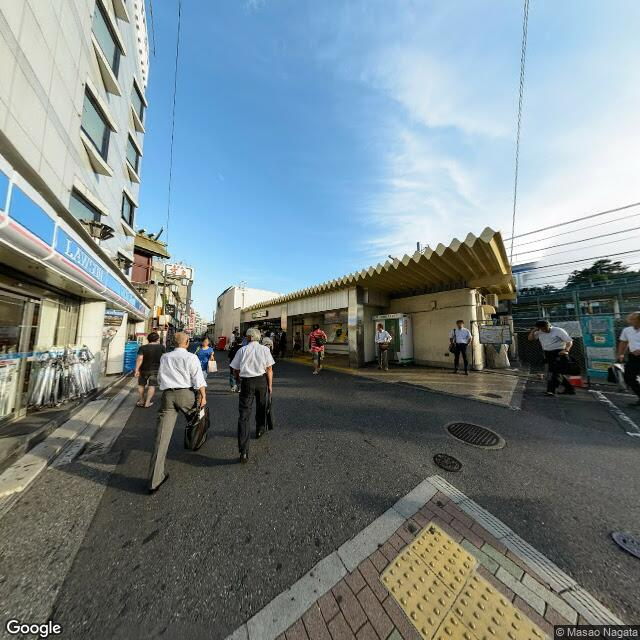lawson: (1, 152, 151, 322)
